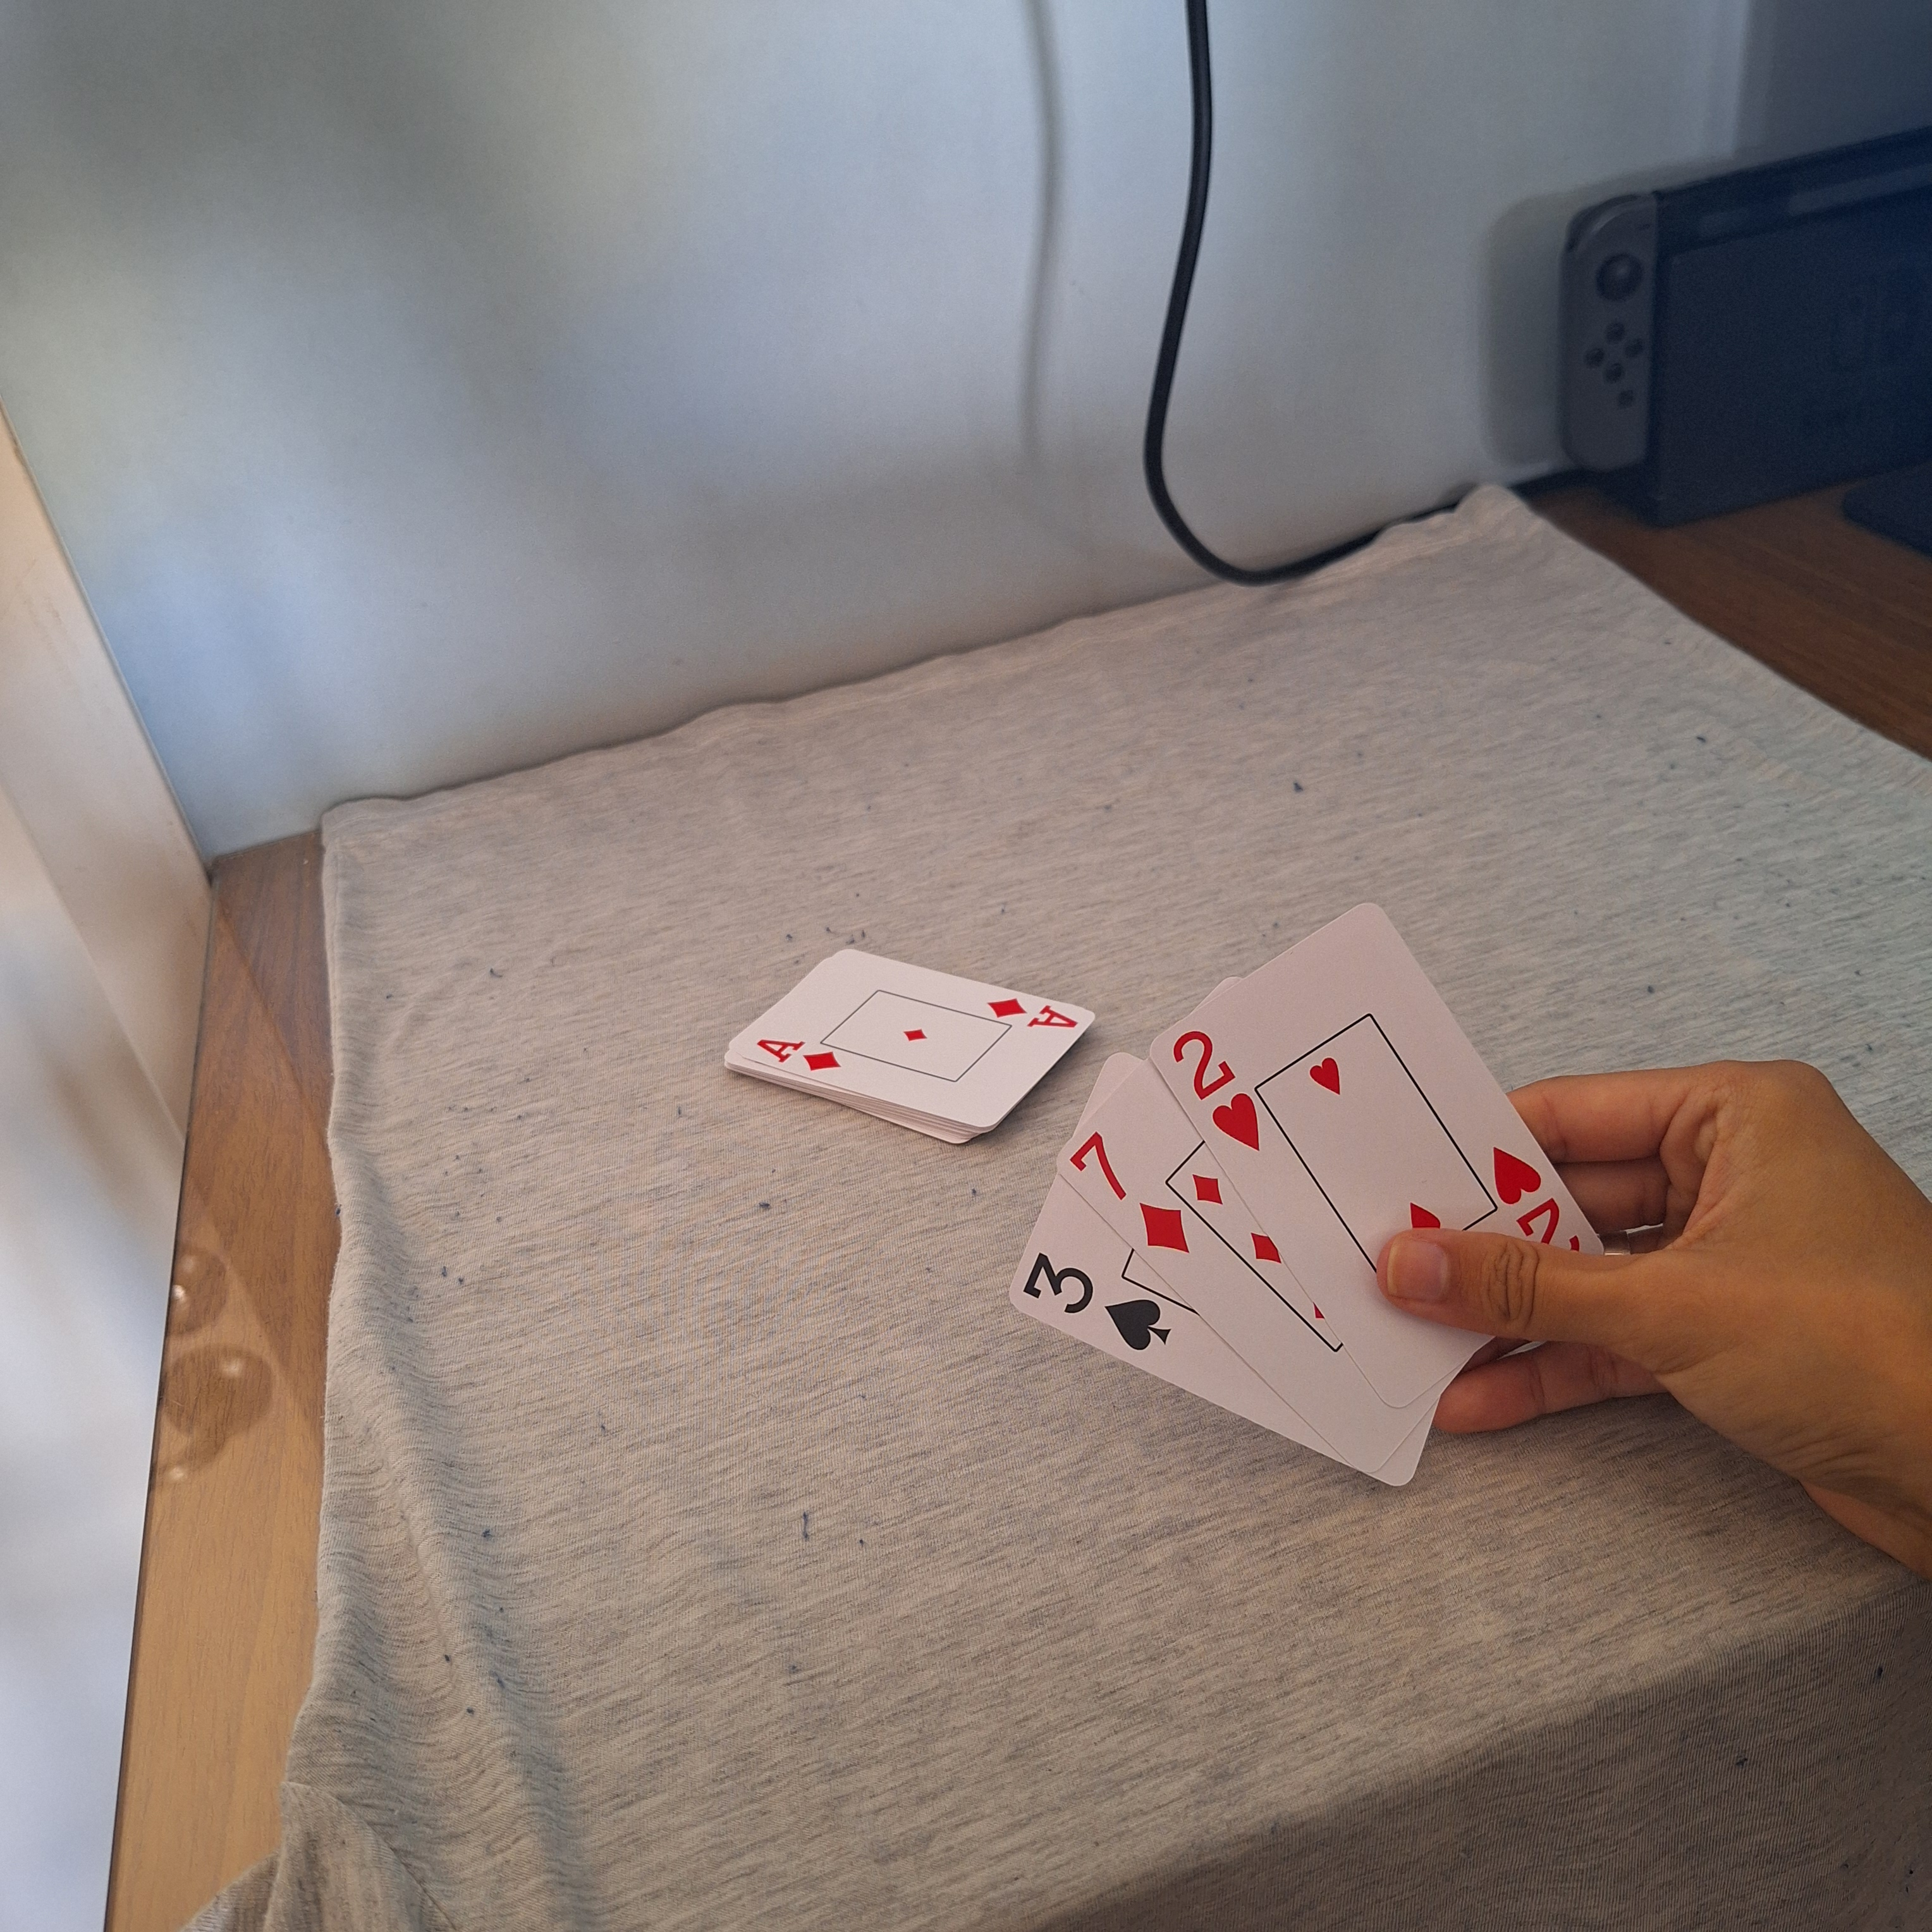2C: (1169, 1023, 1265, 1155), (1488, 1143, 1587, 1254)
3E: (1017, 1249, 1178, 1352)
7O: (1065, 1129, 1196, 1256)
AO: (748, 1033, 846, 1079), (985, 994, 1083, 1031)
